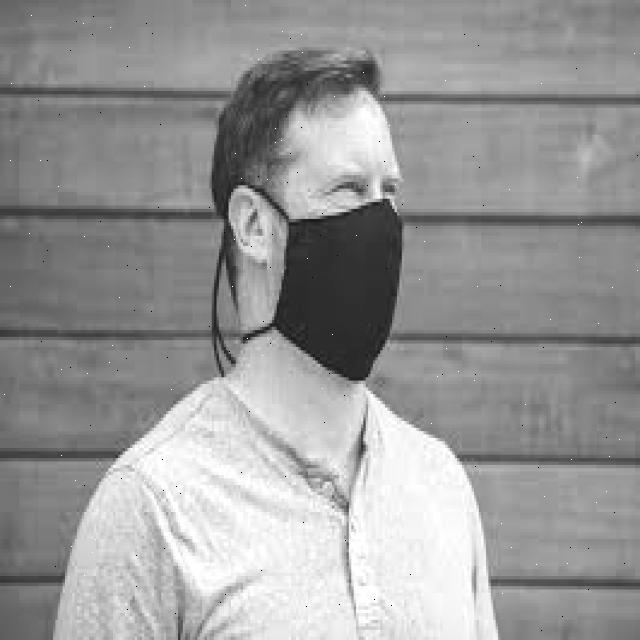fake: (222, 178, 410, 384)
real: (267, 93, 408, 390)
